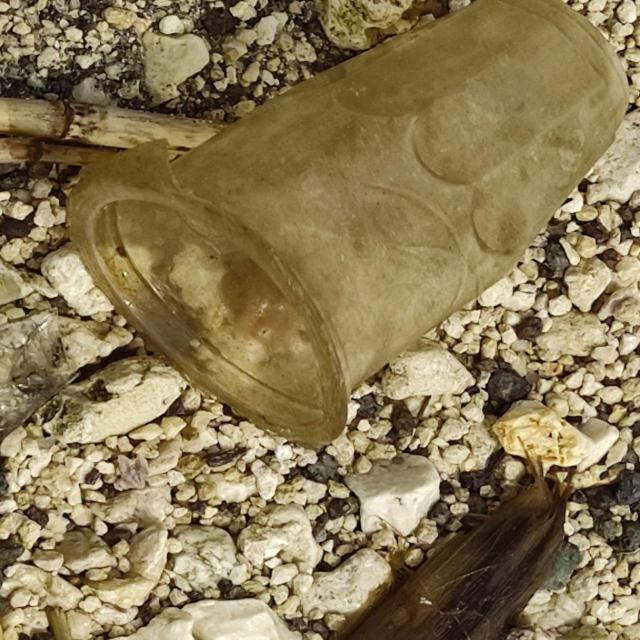plastic_waste: (63, 1, 633, 449)
